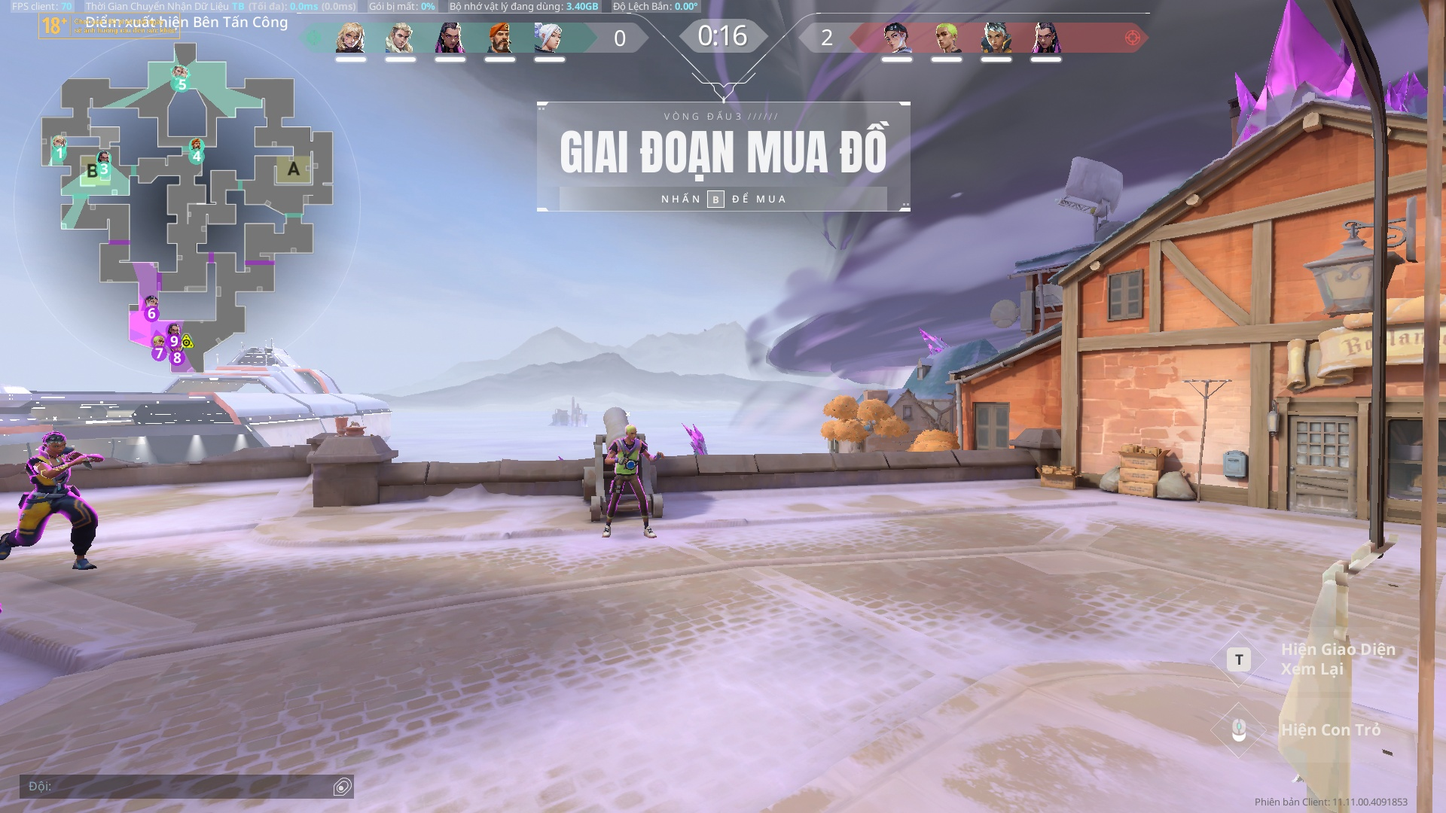body: (32, 446, 78, 488), (610, 436, 644, 471)
head: (41, 432, 71, 454), (624, 424, 638, 441)
